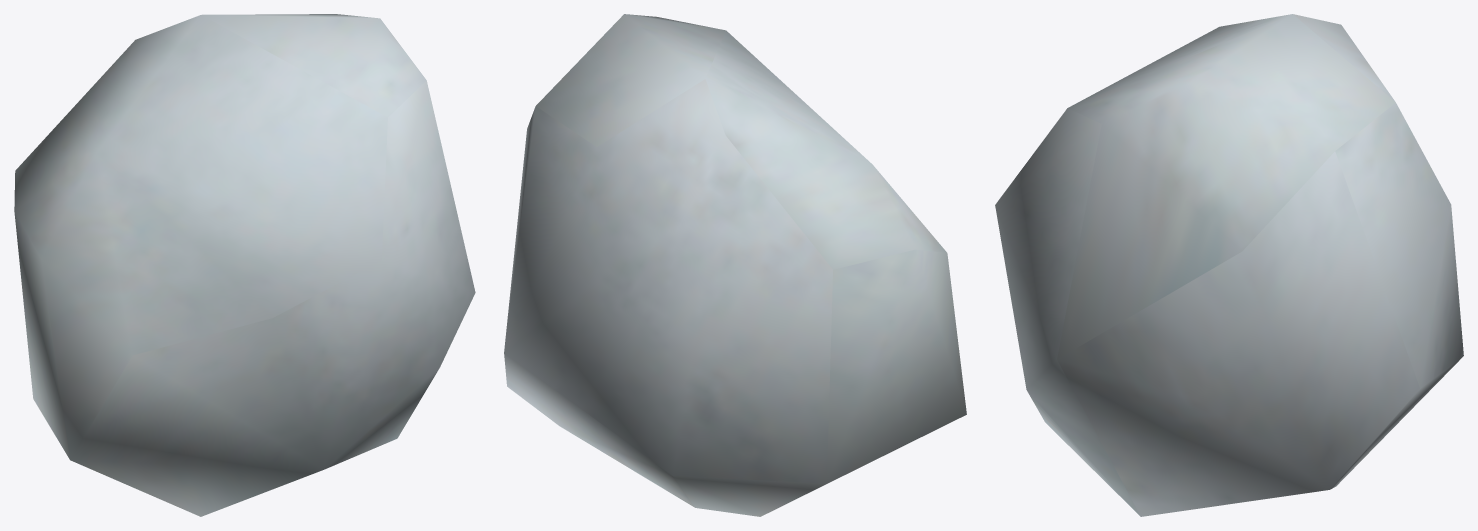
File: P_RockDesert_Rock02.obj
3 views of the same model, side by side, from view 1: azimuth 30°, elevation 25°; view 2: azimuth 150°, elevation 25°; view 3: azimuth 270°, elevation 25° (orthographic). The views are drawn at different scales.
Bounding box in the file's own units: 0.5247 × 0.5201 × 0.4797.
